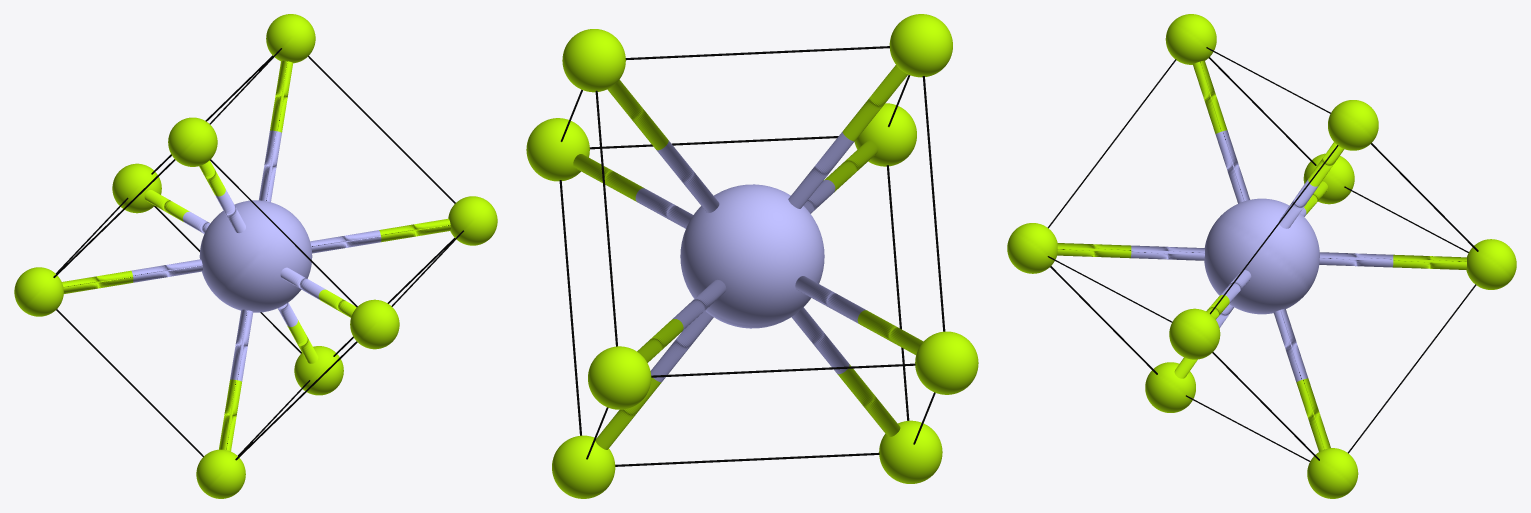
Rendered from CsCl.glb.
3 views of the same model, side by side, from view 1: azimuth 30°, elevation 25°; view 2: azimuth 150°, elevation 25°; view 3: azimuth 270°, elevation 25° (orthographic). The views are drawn at different scales.
Visible parts, largest first — view 1: UnitCellSegment_0; view 2: UnitCellSegment_0; view 3: UnitCellSegment_0.
Part boxes in pixels (x1,y1,x2,y2): UnitCellSegment_0: [14, 14, 497, 498]; UnitCellSegment_0: [526, 14, 978, 498]; UnitCellSegment_0: [1007, 14, 1516, 498].
Bounding box in the file's own units: 0.7602 × 0.6655 × 0.7916.
